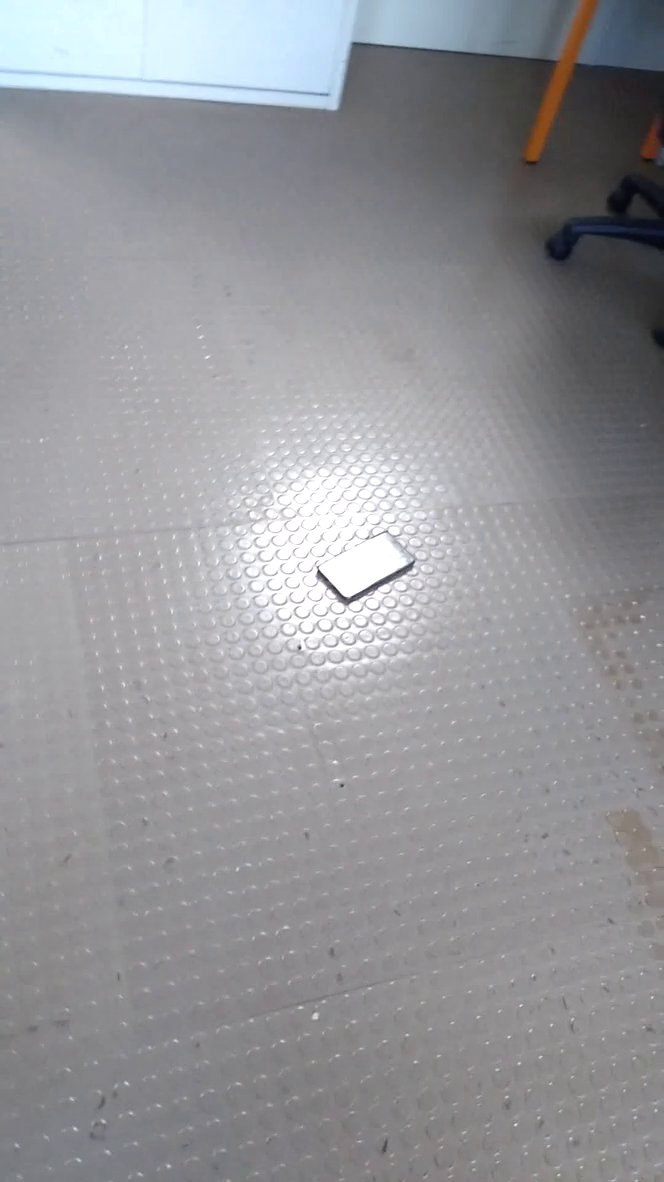phone: (305, 517, 419, 620)
